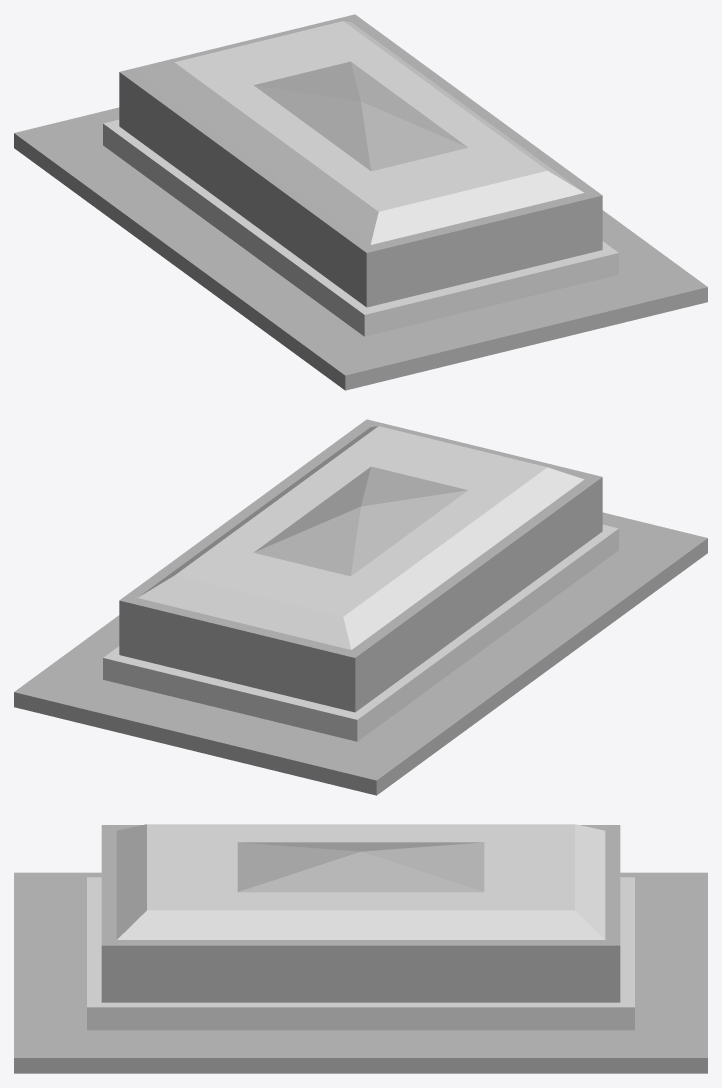
Rendered from HWN20_Grave_07.glb.
3 views of the same model, one above another, from view 1: azimuth 30°, elevation 25°; view 2: azimuth 150°, elevation 25°; view 3: azimuth 270°, elevation 25° (orthographic). The views are drawn at different scales.
Parts seen in each view (by area): view 1: HWN20_Grave_07; view 2: HWN20_Grave_07; view 3: HWN20_Grave_07.
Part boxes in pixels (x1,y1,x2,y2): HWN20_Grave_07: [14, 14, 707, 390]; HWN20_Grave_07: [14, 419, 707, 795]; HWN20_Grave_07: [14, 824, 707, 1073].
Size of what is drawn, in the model's own units: 1.25 by 0.4088 by 1.99.
1 material, 1 textured.
